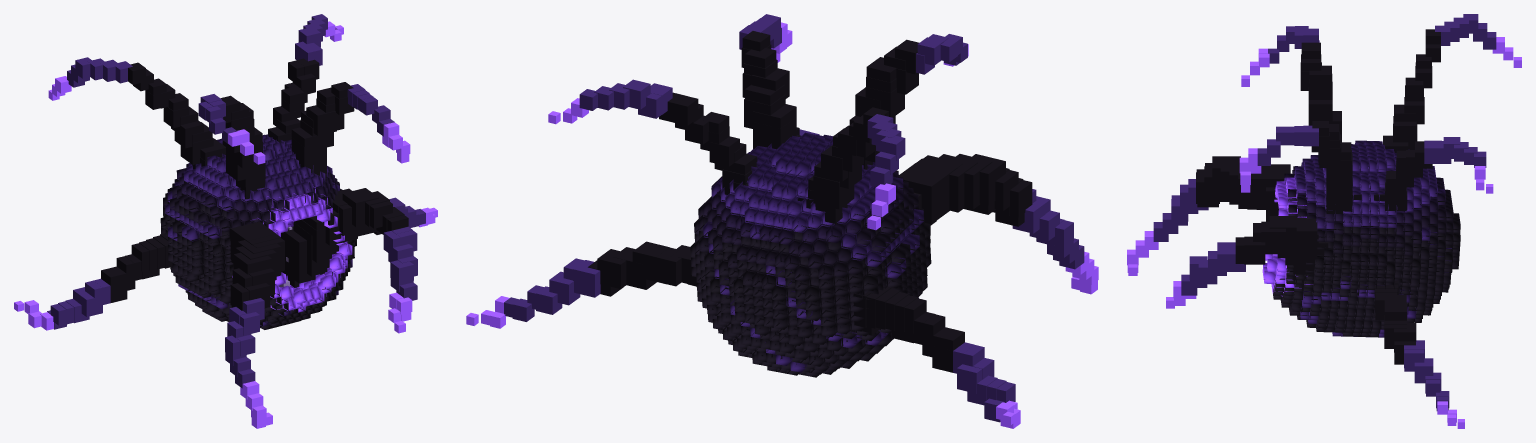
File: cosmic-horror_4arms.glb
The picture shows the model from 3 angles, left to right: view 1: azimuth 30°, elevation 25°; view 2: azimuth 150°, elevation 25°; view 3: azimuth 270°, elevation 25°; orthographic projection. The views are drawn at different scales.
Visible parts, largest first — view 1: body_voxels, gullet_voxels, tentacle_1_vox_3, tentacle_5_vox_6, tentacle_0_vox_12, tentacle_1_vox_16, tentacle_5_vox_11, tentacle_1_vox_8, tentacle_0_vox_20, tentacle_6_vox_7, tentacle_1_vox_14, tentacle_1_vox_33 (+9 smaller); view 2: body_voxels, tentacle_0_vox_12, tentacle_6_vox_5, tentacle_3_vox_14, tentacle_0_vox_16, tentacle_0_vox_20, tentacle_5_vox_6, tentacle_0_vox_18, tentacle_3_vox_16, tentacle_3_vox_11, tentacle_0_vox_25, tentacle_7_vox_7 (+10 smaller); view 3: body_voxels, gullet_voxels, tentacle_1_vox_13, tentacle_0_vox_12, tentacle_1_vox_18, tentacle_1_vox_16, tentacle_1_vox_22, tentacle_5_vox_9, tentacle_0_vox_18, tentacle_0_vox_16, tentacle_3_vox_11, tentacle_1_vox_10 (+10 smaller).
Boxes of the visible parts, x1,y1,x2,y2 form: body_voxels: (160,134,356,329); gullet_voxels: (232,186,352,312); tentacle_1_vox_3: (281,226,306,275); tentacle_5_vox_6: (291,138,326,168); tentacle_0_vox_12: (230,221,276,260); tentacle_1_vox_16: (342,188,378,226); tentacle_5_vox_11: (306,105,336,135); tentacle_1_vox_8: (312,227,343,262); tentacle_0_vox_20: (233,252,271,274); tentacle_6_vox_7: (174,120,203,148); tentacle_1_vox_14: (338,204,367,235); tentacle_1_vox_33: (390,260,413,283); body_voxels: (690,132,931,377); tentacle_0_vox_12: (898,162,952,224); tentacle_6_vox_5: (813,176,854,209); tentacle_3_vox_14: (597,249,626,288); tentacle_0_vox_16: (939,154,977,212); tentacle_0_vox_20: (972,154,1005,205); tentacle_5_vox_6: (753,117,796,149); tentacle_0_vox_18: (956,154,992,209); tentacle_3_vox_16: (572,260,600,297); tentacle_3_vox_11: (632,241,669,281); tentacle_0_vox_25: (1009,180,1032,217); tentacle_7_vox_7: (709,136,739,166); body_voxels: (1273,140,1460,337); gullet_voxels: (1262,176,1312,296); tentacle_1_vox_13: (1286,218,1317,259); tentacle_0_vox_12: (1256,164,1290,209); tentacle_1_vox_18: (1261,221,1285,254); tentacle_1_vox_16: (1269,216,1296,251); tentacle_1_vox_22: (1244,236,1265,264); tentacle_5_vox_9: (1327,150,1351,183); tentacle_0_vox_18: (1220,158,1239,199); tentacle_0_vox_16: (1229,161,1239,204); tentacle_3_vox_11: (1384,302,1406,320); tentacle_1_vox_10: (1294,241,1328,274).
Size of the model in its own units: 6.99 by 4 by 5.47.
